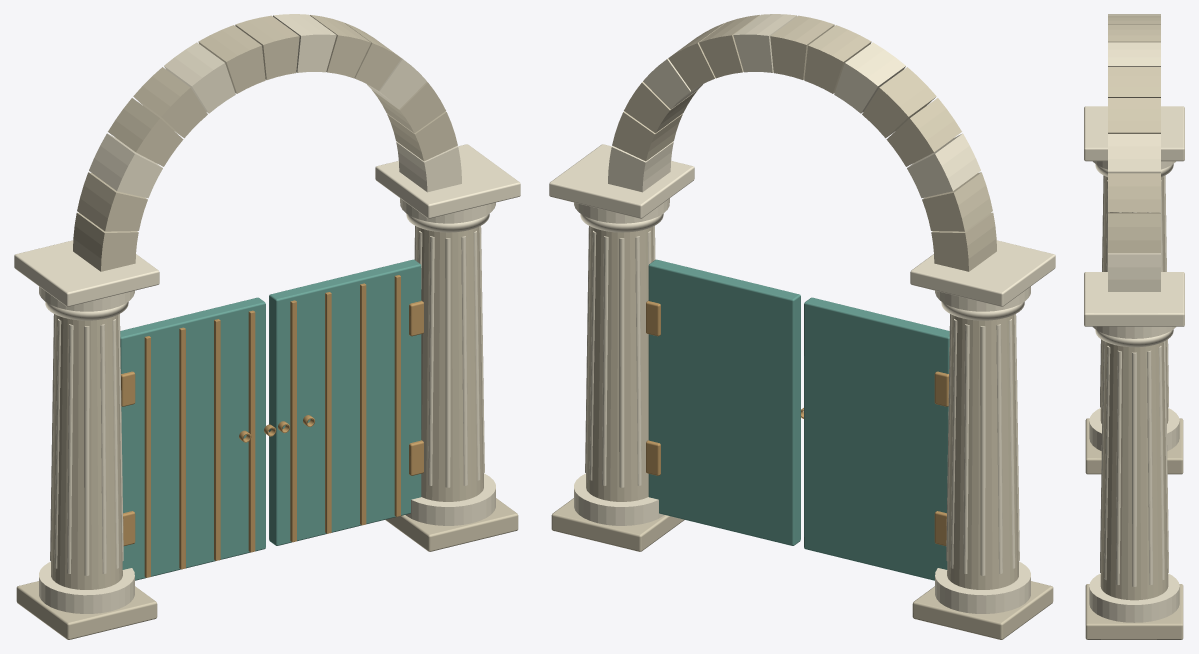
The model's file is fantasy-bathhouse-and-thermal-sanctuary-fantasy-bathho-d52bf16e__29478.glb.
3 renders of one model, left to right at view 1: azimuth 30°, elevation 25°; view 2: azimuth 150°, elevation 25°; view 3: azimuth 270°, elevation 25°, orthographic. The views are drawn at different scales.
Visible parts, largest first — view 1: fantasy-bathhouse-and-thermal-sanctuary-sanctuary-gate; view 2: fantasy-bathhouse-and-thermal-sanctuary-sanctuary-gate; view 3: fantasy-bathhouse-and-thermal-sanctuary-sanctuary-gate.
Boxes of the visible parts, x1,y1,x2,y2 form: fantasy-bathhouse-and-thermal-sanctuary-sanctuary-gate: [14, 14, 520, 639]; fantasy-bathhouse-and-thermal-sanctuary-sanctuary-gate: [549, 14, 1055, 639]; fantasy-bathhouse-and-thermal-sanctuary-sanctuary-gate: [1084, 14, 1184, 639].
Size of the model in its own units: 3.27 by 3.7 by 0.6698.
